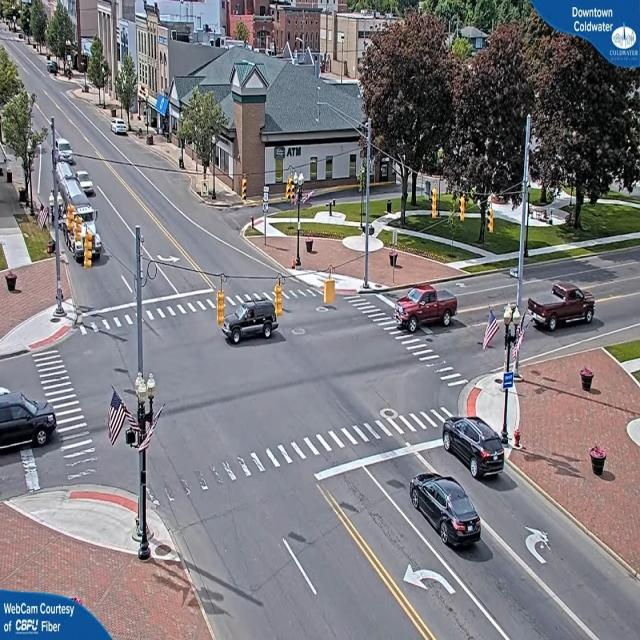car: (409, 476, 482, 552), (0, 384, 55, 458), (444, 417, 506, 481), (223, 281, 281, 345), (530, 280, 598, 332), (394, 286, 458, 332), (77, 170, 96, 196), (54, 136, 72, 162), (112, 121, 131, 138)
truck: (57, 192, 102, 278)
